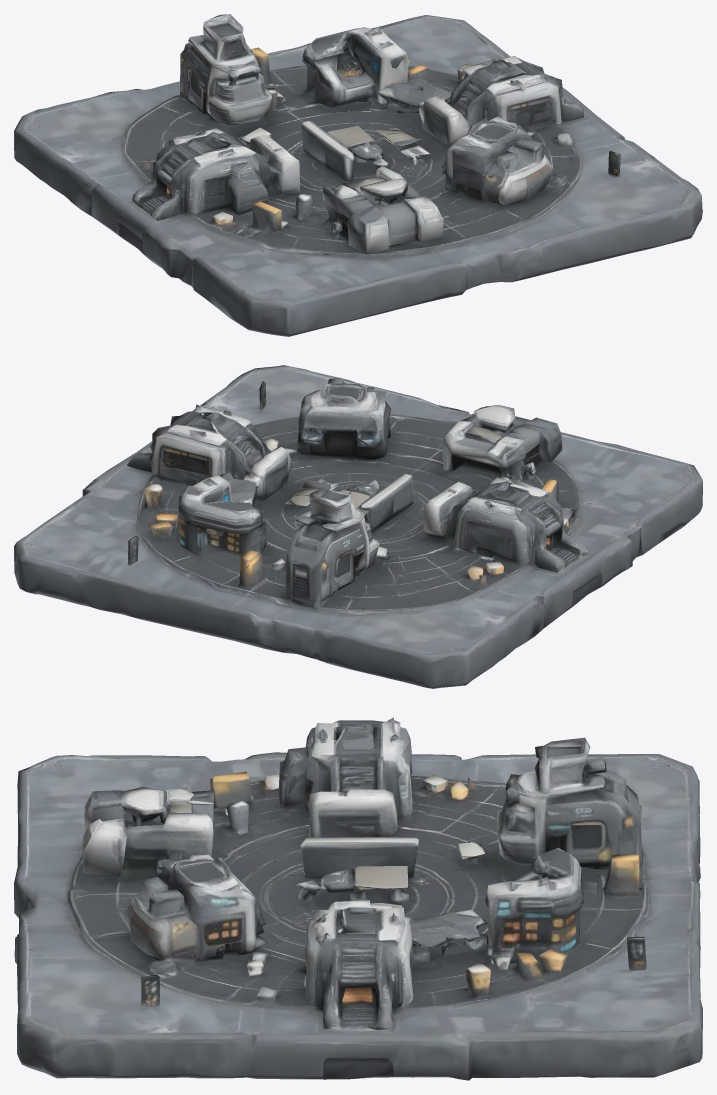
The model's file is tradehub.glb.
3 renders of one model, top to bottom at view 1: azimuth 30°, elevation 25°; view 2: azimuth 150°, elevation 25°; view 3: azimuth 270°, elevation 25°, orthographic. The views are drawn at different scales.
Parts seen in each view (by area): view 1: tripo_node_b82447ce-6ebf-4672-a74d-f095243ee7d1; view 2: tripo_node_b82447ce-6ebf-4672-a74d-f095243ee7d1; view 3: tripo_node_b82447ce-6ebf-4672-a74d-f095243ee7d1.
Boxes of the visible parts, x1,y1,x2,y2 form: tripo_node_b82447ce-6ebf-4672-a74d-f095243ee7d1: (14, 14, 702, 336); tripo_node_b82447ce-6ebf-4672-a74d-f095243ee7d1: (14, 365, 702, 688); tripo_node_b82447ce-6ebf-4672-a74d-f095243ee7d1: (14, 717, 702, 1080).
Bounding box in the file's own units: 0.9985 × 0.2631 × 1.
Materials: 1 (1 with a texture image).
